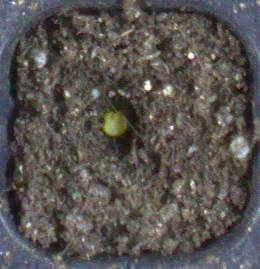pepper seed: (38, 42, 166, 179)
